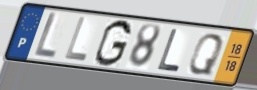8: (126, 23, 162, 71)
G: (93, 18, 134, 69)
L: (32, 11, 58, 62), (62, 16, 89, 63), (156, 28, 182, 74)
Q: (186, 32, 225, 78)
